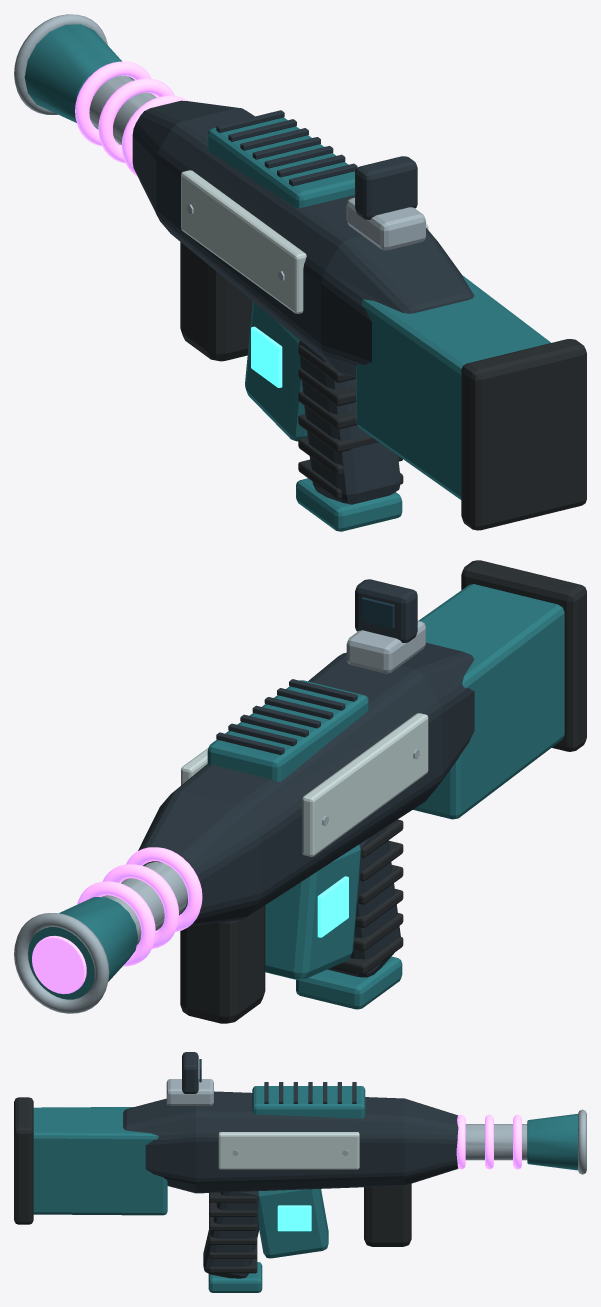
File: ion_carbine.glb
3 renders of one model, top to bottom at view 1: azimuth 30°, elevation 25°; view 2: azimuth 150°, elevation 25°; view 3: azimuth 270°, elevation 25°, orthographic. The views are drawn at different scales.
Parts seen in each view (by area): view 1: ion_carbine_mesh, Cooling_sled_mesh; view 2: ion_carbine_mesh, Cooling_sled_mesh; view 3: ion_carbine_mesh, Cooling_sled_mesh.
Part boxes in pixels (x1=…): ion_carbine_mesh: x1=14, y1=14, x2=586, y2=531; Cooling_sled_mesh: x1=207, y1=110, x2=357, y2=208; ion_carbine_mesh: x1=14, y1=560, x2=586, y2=1023; Cooling_sled_mesh: x1=207, y1=679, x2=368, y2=781; ion_carbine_mesh: x1=14, y1=1052, x2=586, y2=1292; Cooling_sled_mesh: x1=252, y1=1082, x2=365, y2=1118.
Bounding box in the file's own units: 0.1689 × 0.442 × 1.02.
